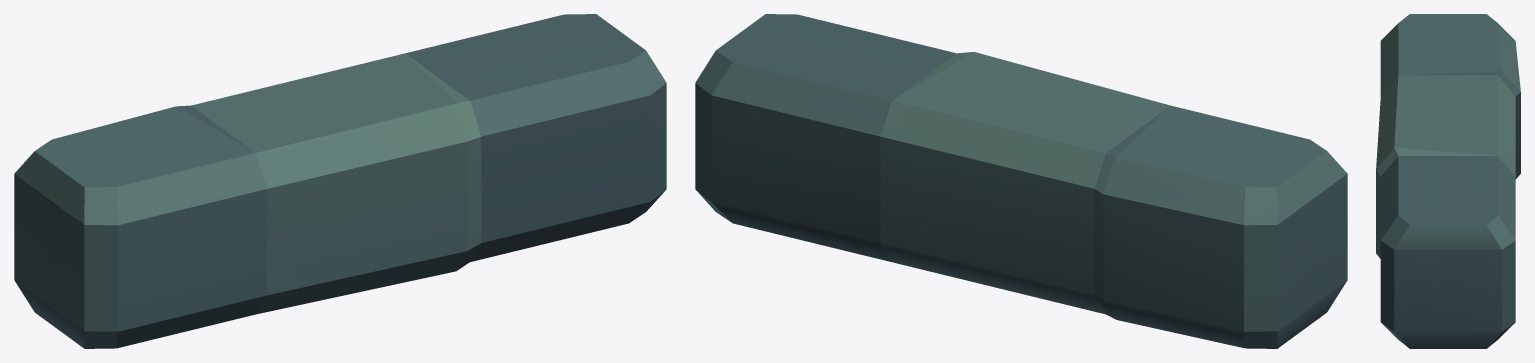
Rendered from archway_small_bridge_part_large2.fbx.
3 views of the same model, side by side, from view 1: azimuth 30°, elevation 25°; view 2: azimuth 150°, elevation 25°; view 3: azimuth 270°, elevation 25° (orthographic). The views are drawn at different scales.
Parts seen in each view (by area): view 1: archway_small_bridge_part_large2; view 2: archway_small_bridge_part_large2; view 3: archway_small_bridge_part_large2.
Part boxes in pixels (x1,y1,x2,y2): archway_small_bridge_part_large2: [14, 14, 666, 348]; archway_small_bridge_part_large2: [695, 14, 1347, 348]; archway_small_bridge_part_large2: [1376, 14, 1520, 348].
Bounding box in the file's own units: 210 × 57.78 × 58.77.
